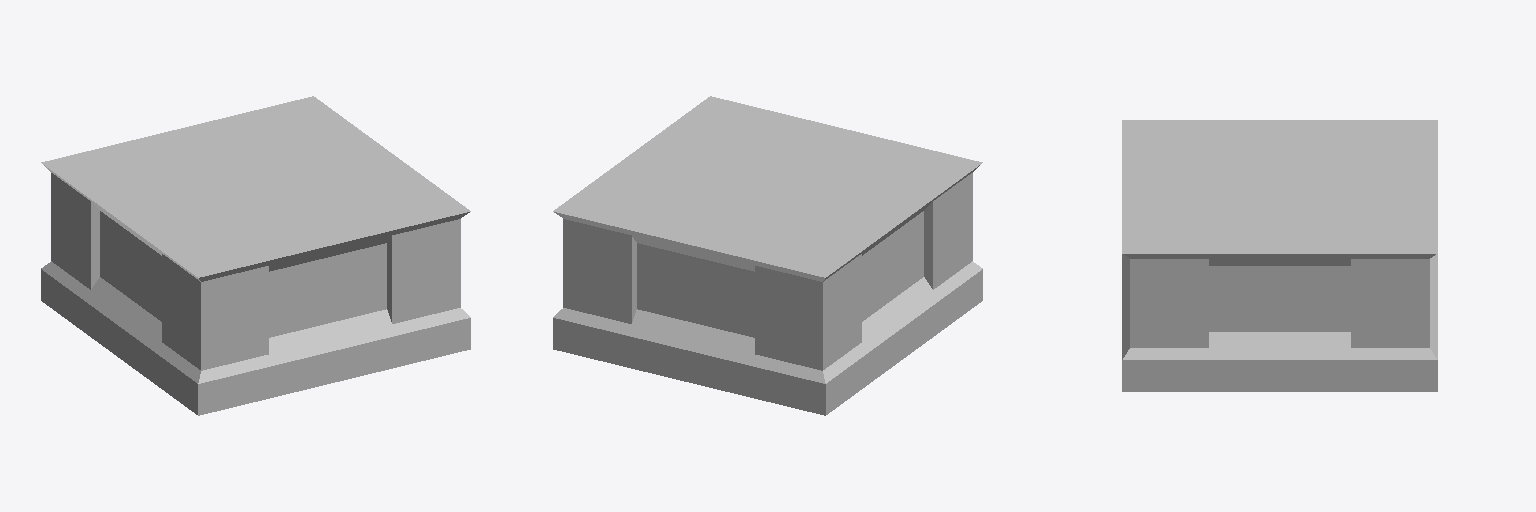
File: TD_Towerplatform.obj
3 views of the same model, side by side, from view 1: azimuth 30°, elevation 25°; view 2: azimuth 150°, elevation 25°; view 3: azimuth 270°, elevation 25° (orthographic).
Parts seen in each view (by area): view 1: pCube9; view 2: pCube9; view 3: pCube9.
Boxes of the visible parts, x1,y1,x2,y2 form: pCube9: [41, 96, 470, 415]; pCube9: [553, 96, 982, 415]; pCube9: [1122, 120, 1437, 391].
Size of the model in its own units: 2 by 0.9657 by 2.